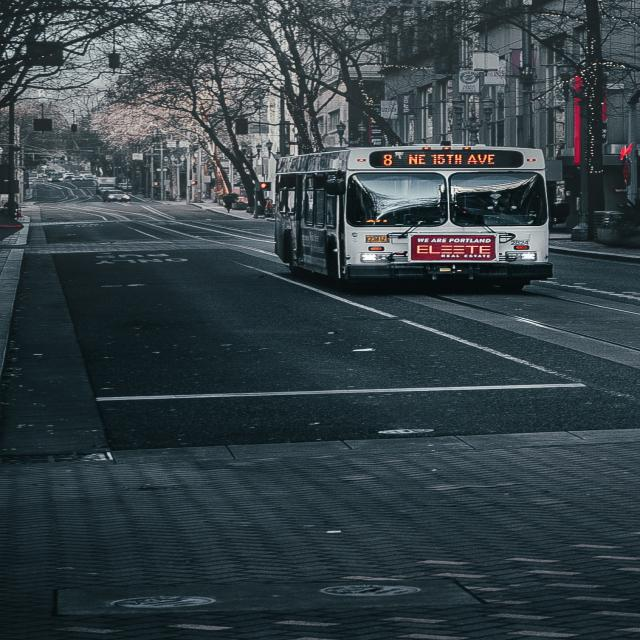bus: (264, 146, 559, 290)
car: (102, 189, 130, 202)
van: (96, 177, 116, 194)
